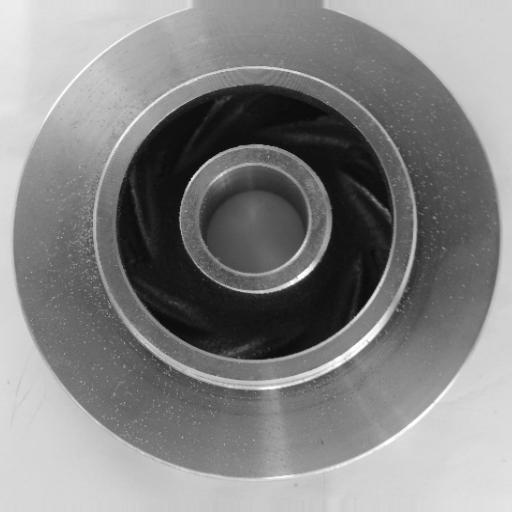polished_casting: (12, 1, 503, 481)
